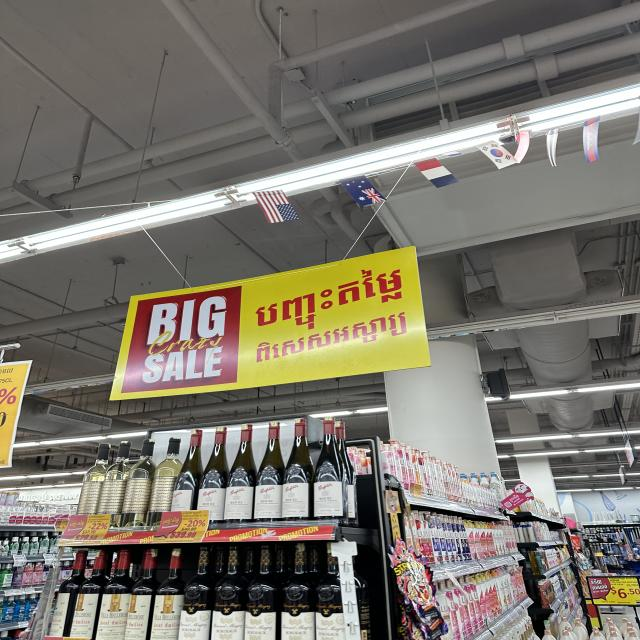Yolov11kh: (244, 260, 405, 334), (247, 305, 411, 366)
